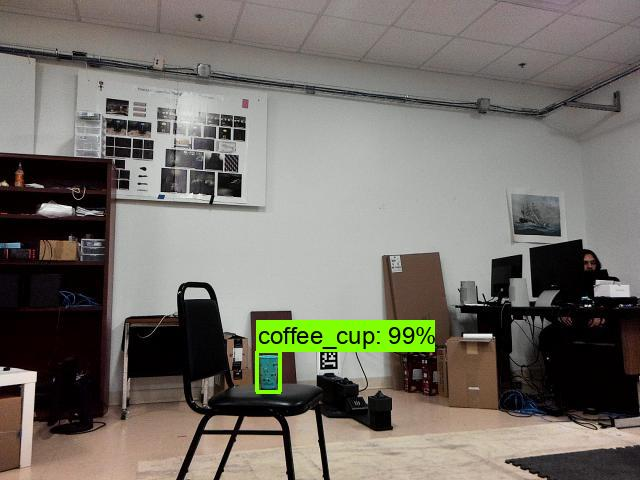coffee_cup: (257, 352, 281, 392)
